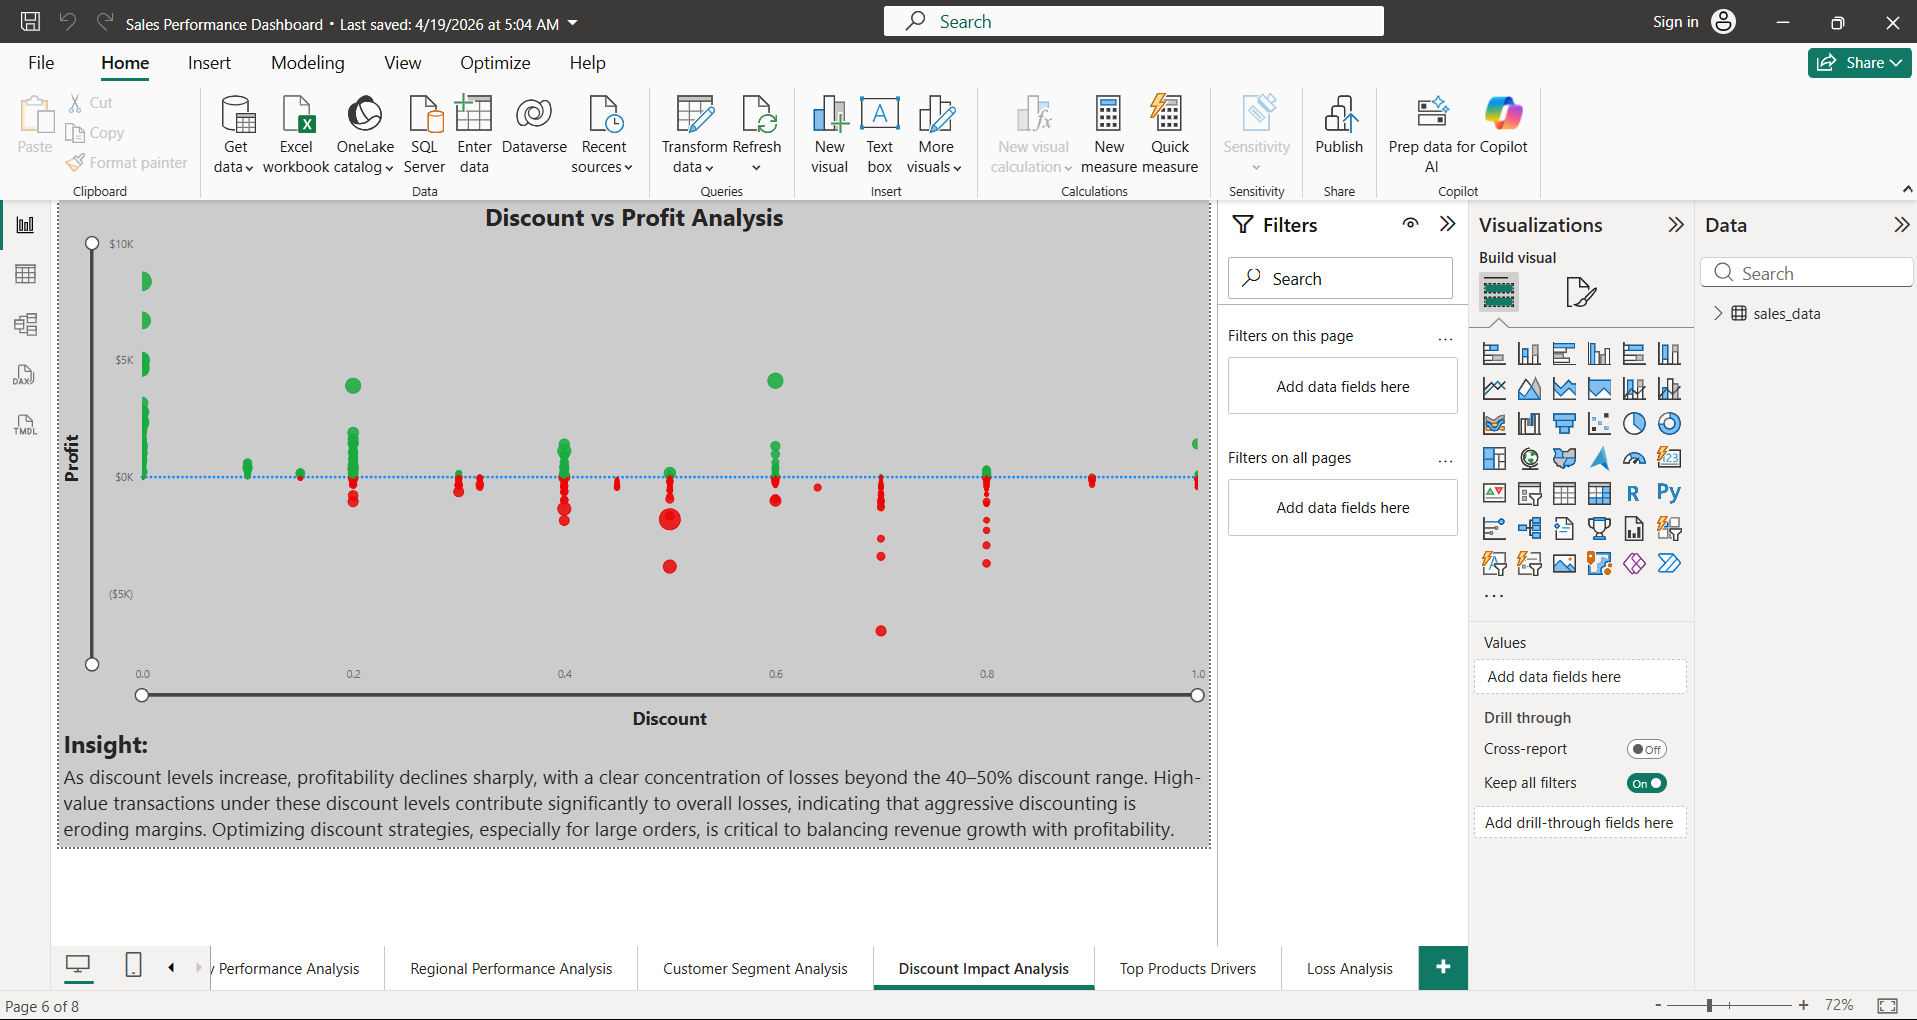

What the dashboard file says about the page in this screenshot:
{"tool":"powerbi","page":{"name":"Discount Impact Analysis","canvas":[1280,720],"ordinal":5},"visuals":[{"type":"scatterChart","title":"Discount vs Profit Analysis","fields":{"X":["Sum(sales_data.discount)"],"Y":["Sum(sales_data.profit)"],"Category":["sales_data.sales"],"Size":["Sum(sales_data.sales)"]},"box":[0,0,1280,587.1],"z":0},{"type":"textbox","title":"Insight:","box":[0,587.1,1280,132.9],"z":1000}]}

Visuals, with their boxes on the page's 1280x720 design canvas (x1, y1, x2, y2). These are canvas units, not pixel positions in the 1917x1020 screenshot, which may show the page scaled, cropped or inside an application window:
"Discount vs Profit Analysis" scatterChart: Rect(0, 0, 1280, 587)
"Insight:" textbox: Rect(0, 587, 1280, 720)
